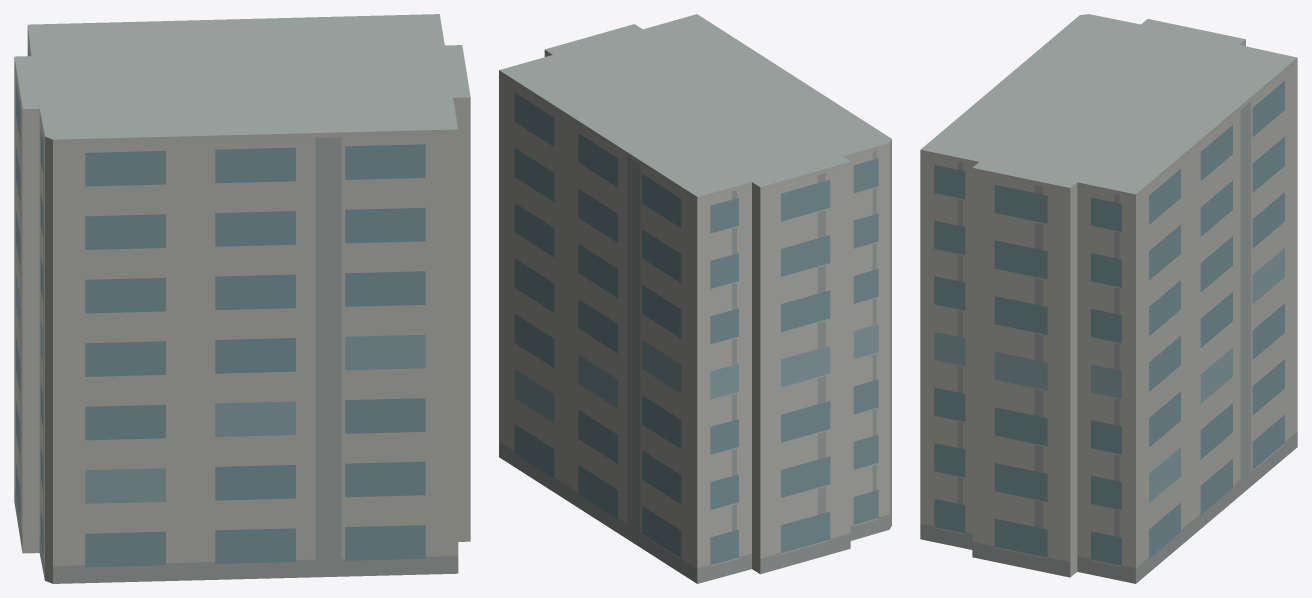
File: survey-upis-33025068.glb
The picture shows the model from 3 angles, left to right: view 1: azimuth 30°, elevation 25°; view 2: azimuth 150°, elevation 25°; view 3: azimuth 270°, elevation 25°; orthographic projection. The views are drawn at different scales.
Parts seen in each view (by area): view 1: survey-upis-33025068.tmp; view 2: survey-upis-33025068.tmp; view 3: survey-upis-33025068.tmp.
Boxes of the visible parts, x1,y1,x2,y2 form: survey-upis-33025068.tmp: [14, 14, 470, 583]; survey-upis-33025068.tmp: [499, 14, 891, 583]; survey-upis-33025068.tmp: [920, 14, 1297, 583].
Bounding box in the file's own units: 22.16 × 22.3 × 19.58.
